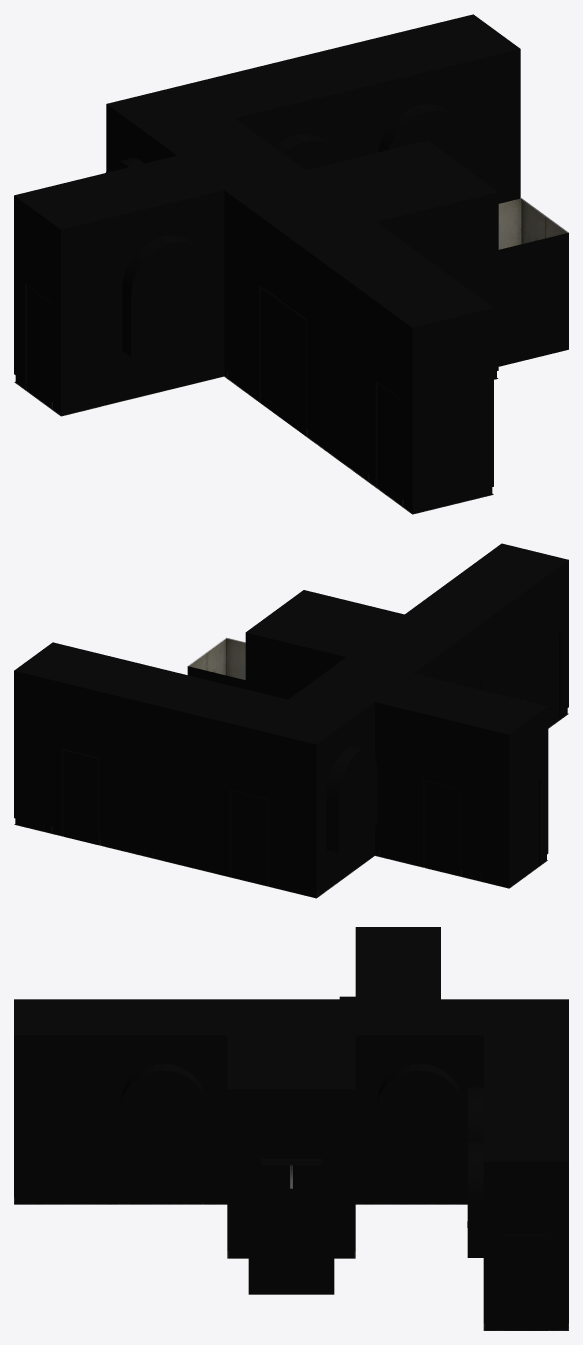
Rendered from corridor_game_ready_free.glb.
The picture shows the model from 3 angles, top to bottom: view 1: azimuth 30°, elevation 25°; view 2: azimuth 150°, elevation 25°; view 3: azimuth 270°, elevation 25°; orthographic projection. The views are drawn at different scales.
Parts seen in each view (by area): view 1: Material2, Material3 (×2); view 2: Material2, Material3 (×2); view 3: Material2, Material3.
Part boxes in pixels (box(x1,y1,x2,y2)): Material2: box(14, 14, 568, 513); Material3 (×2): box(14, 198, 568, 514); Material2: box(14, 543, 568, 897); Material3 (×2): box(14, 637, 568, 898); Material2: box(14, 927, 568, 1330); Material3: box(14, 1197, 568, 1330).
Bounding box in the file's own units: 8.91 × 3 × 8.91.
9 materials, 9 textured.
